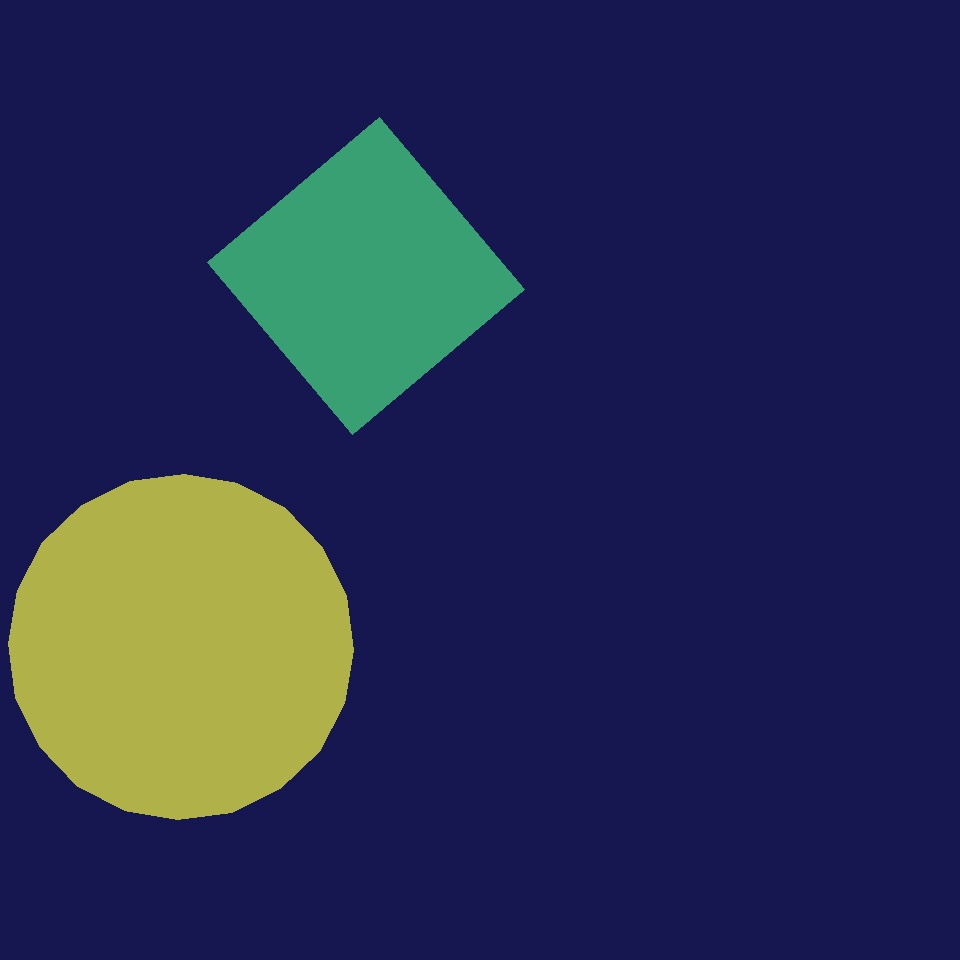square: (207, 117, 524, 434)
triangle: (8, 474, 354, 820)
